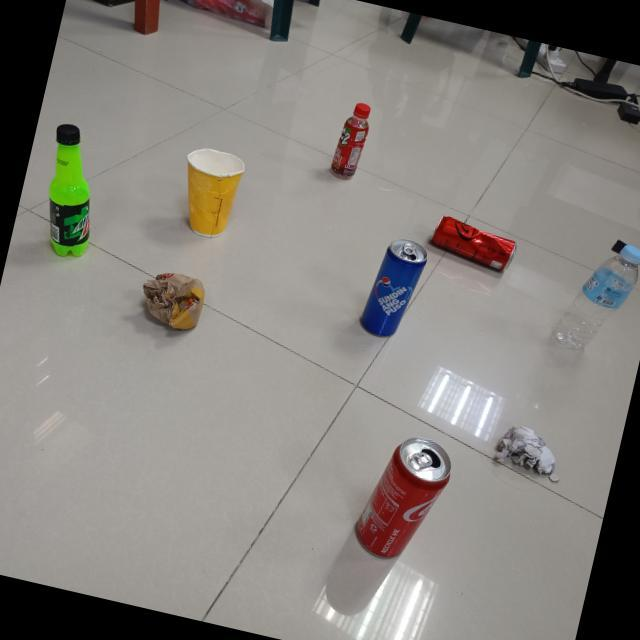recyclable waste: (342, 419, 462, 575), (22, 116, 118, 266), (545, 225, 640, 366), (351, 228, 434, 348), (165, 138, 252, 246), (421, 208, 526, 282), (130, 260, 214, 340), (484, 416, 568, 488), (323, 94, 378, 185)
